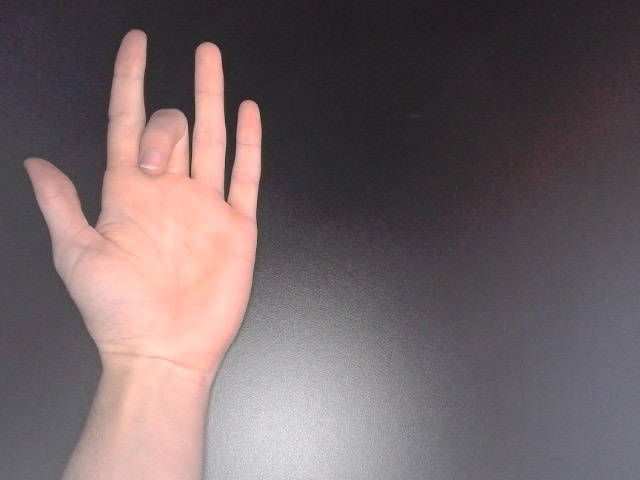reset: (17, 23, 268, 394)
